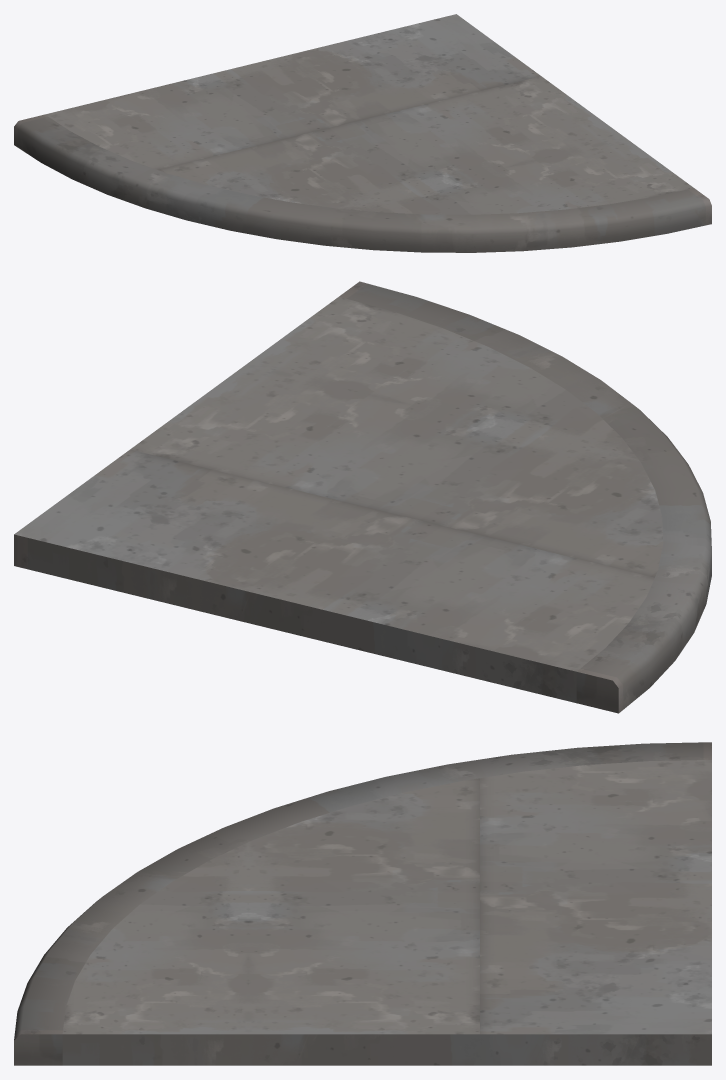
Rendered from S_SidewalkCornerRound3m.gltf.
3 views of the same model, one above another, from view 1: azimuth 30°, elevation 25°; view 2: azimuth 150°, elevation 25°; view 3: azimuth 270°, elevation 25° (orthographic). The views are drawn at different scales.
Visible parts, largest first — view 1: Cube_002-col; view 2: Cube_002-col; view 3: Cube_002-col.
Boxes of the visible parts, <box> form: Cube_002-col: <box>14,14,711,252</box>; Cube_002-col: <box>14,281,711,713</box>; Cube_002-col: <box>14,742,711,1065</box>.
Bounding box in the file's own units: 3.01 × 0.15 × 3.01.
Materials: 1 (1 with a texture image).
